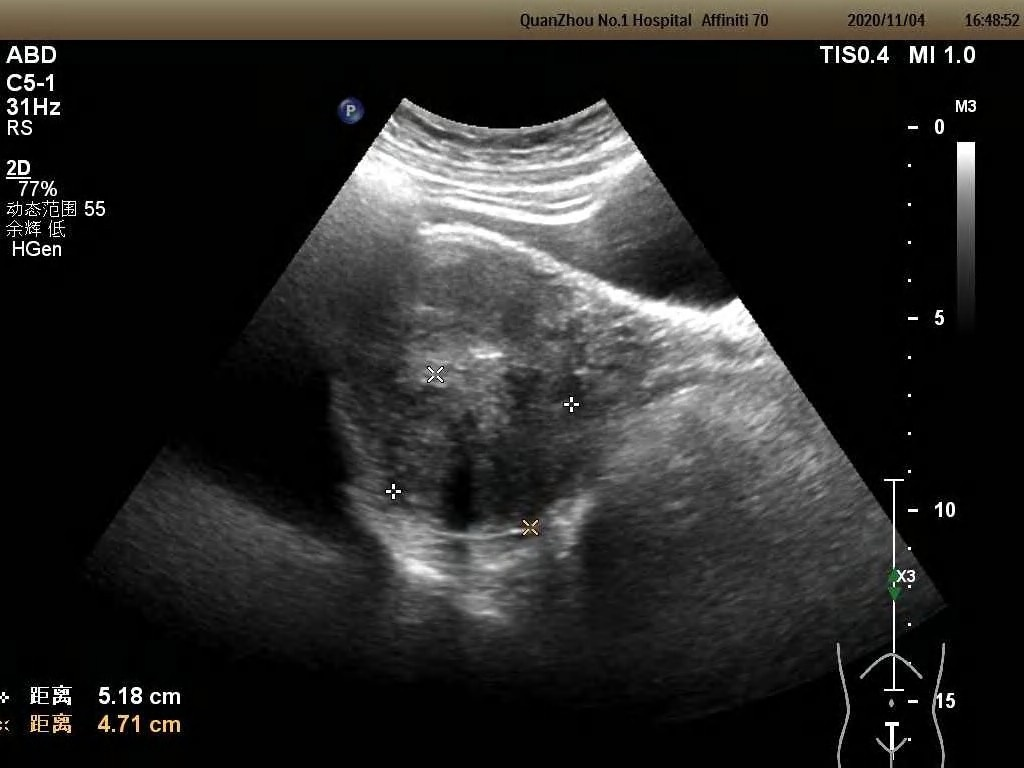肌瘤: (405, 378, 568, 517)
